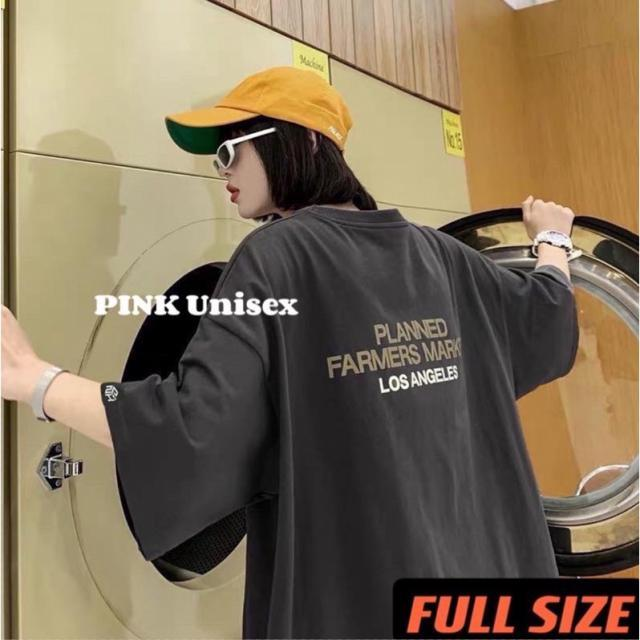Shirt: (95, 203, 588, 640)
